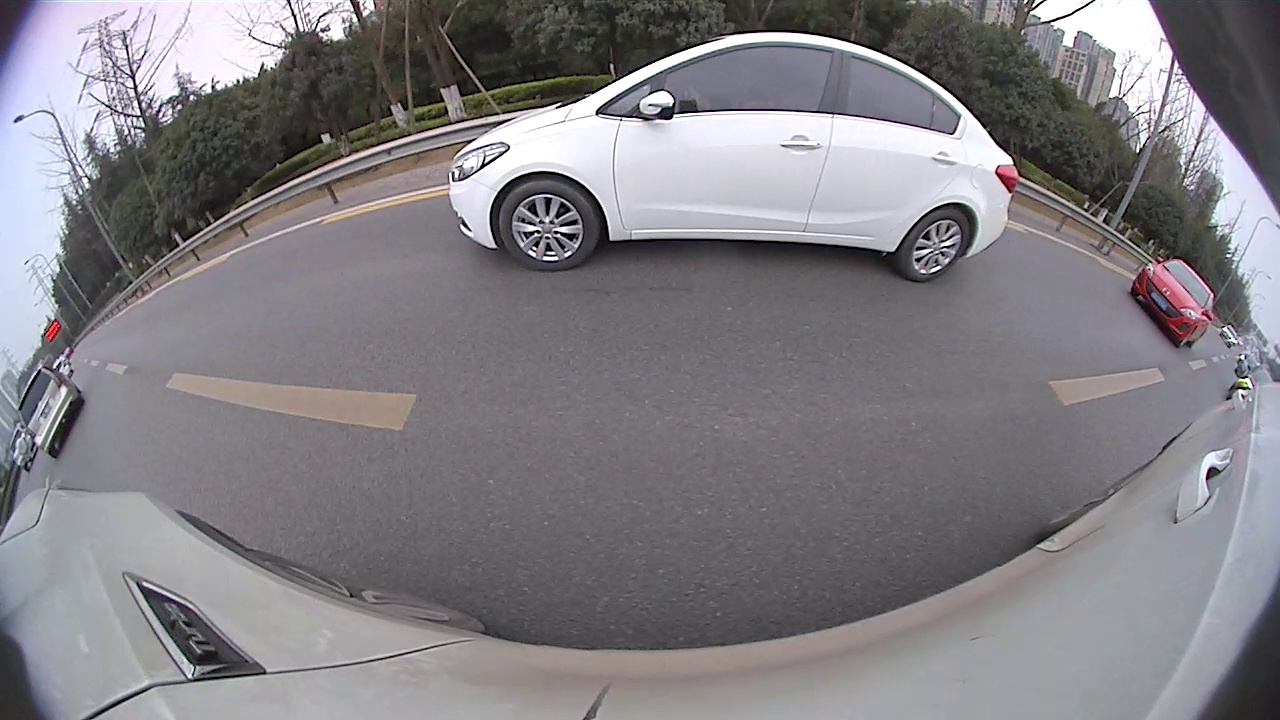car: (446, 29, 1022, 285), (1127, 256, 1217, 351), (16, 362, 87, 461), (8, 421, 40, 473)
front: (498, 184, 599, 271)
rear: (906, 209, 970, 282)
